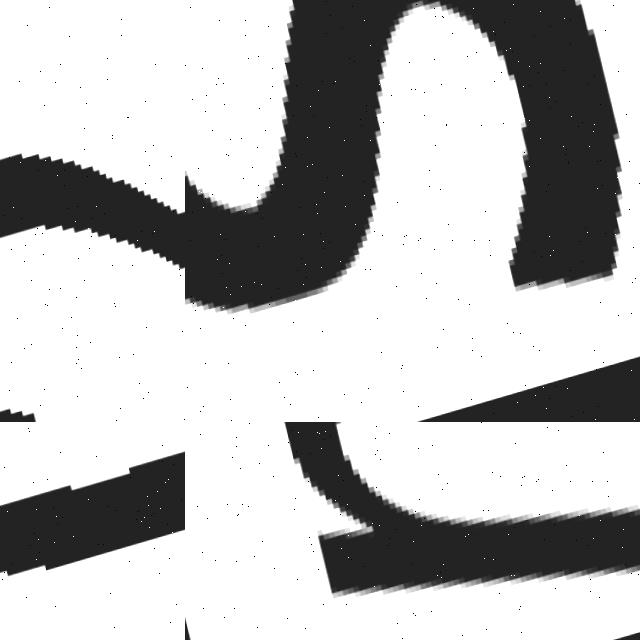0: (0, 422, 185, 640)
2: (0, 38, 185, 422)
M: (198, 422, 640, 640)
S: (185, 0, 640, 422)
